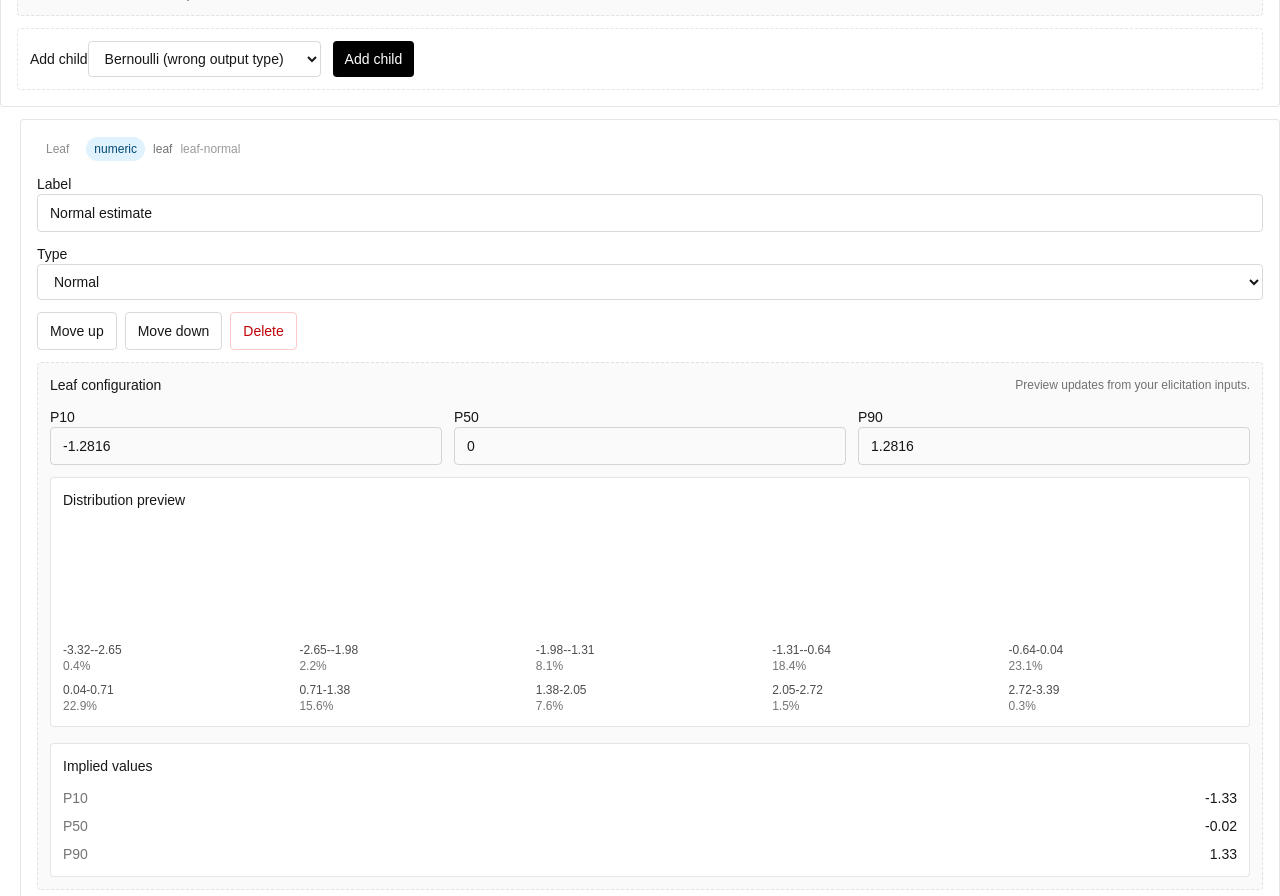
Test: TreeEditorShell › renders quantile inputs for numeric leaves and keeps invalid drafts visible
(page scrolled)
Clear the number field named "P50 for leaf-normal" at (650, 446), box [454,427,846,465]
(page scrolled)
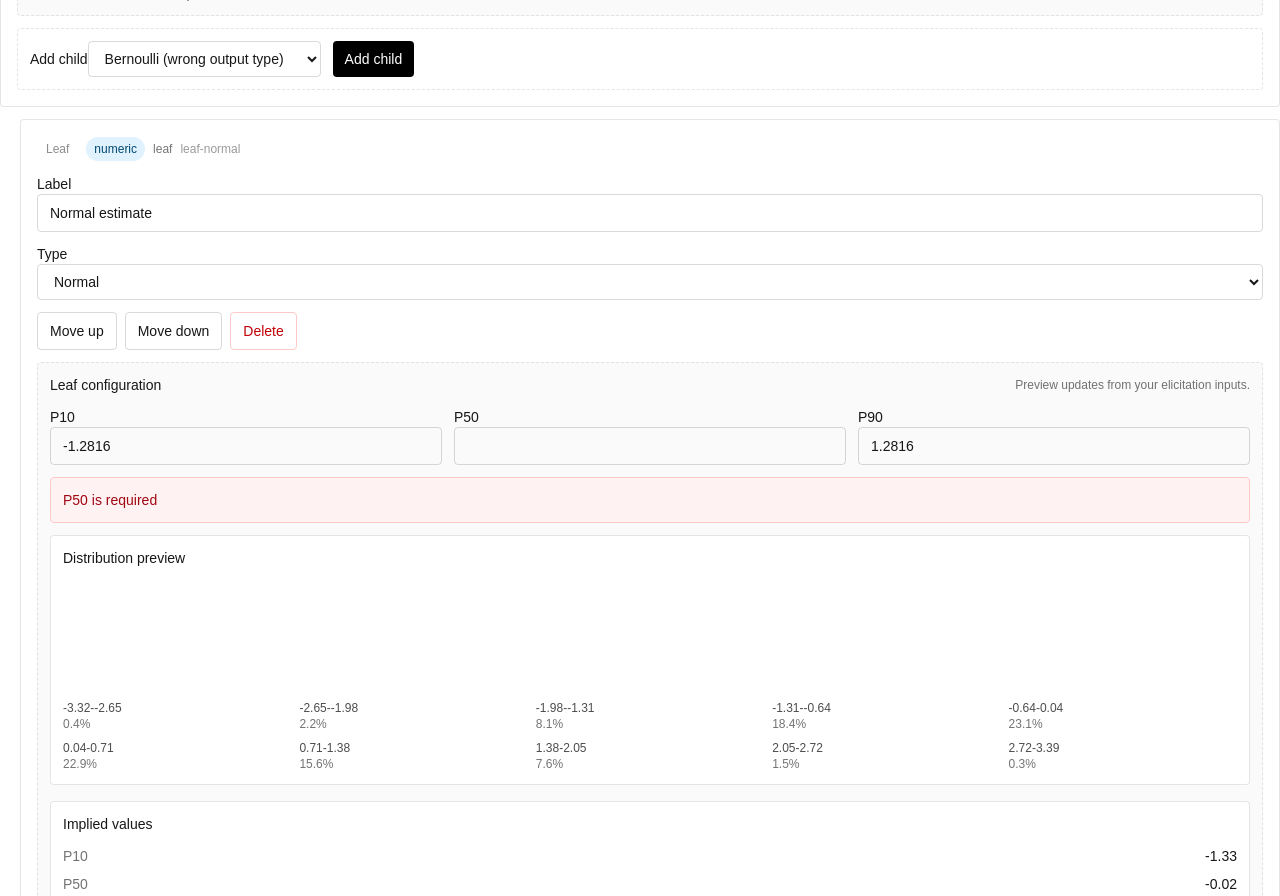
Now the text "P50 is required" is shown, box [50,477,1250,523]
